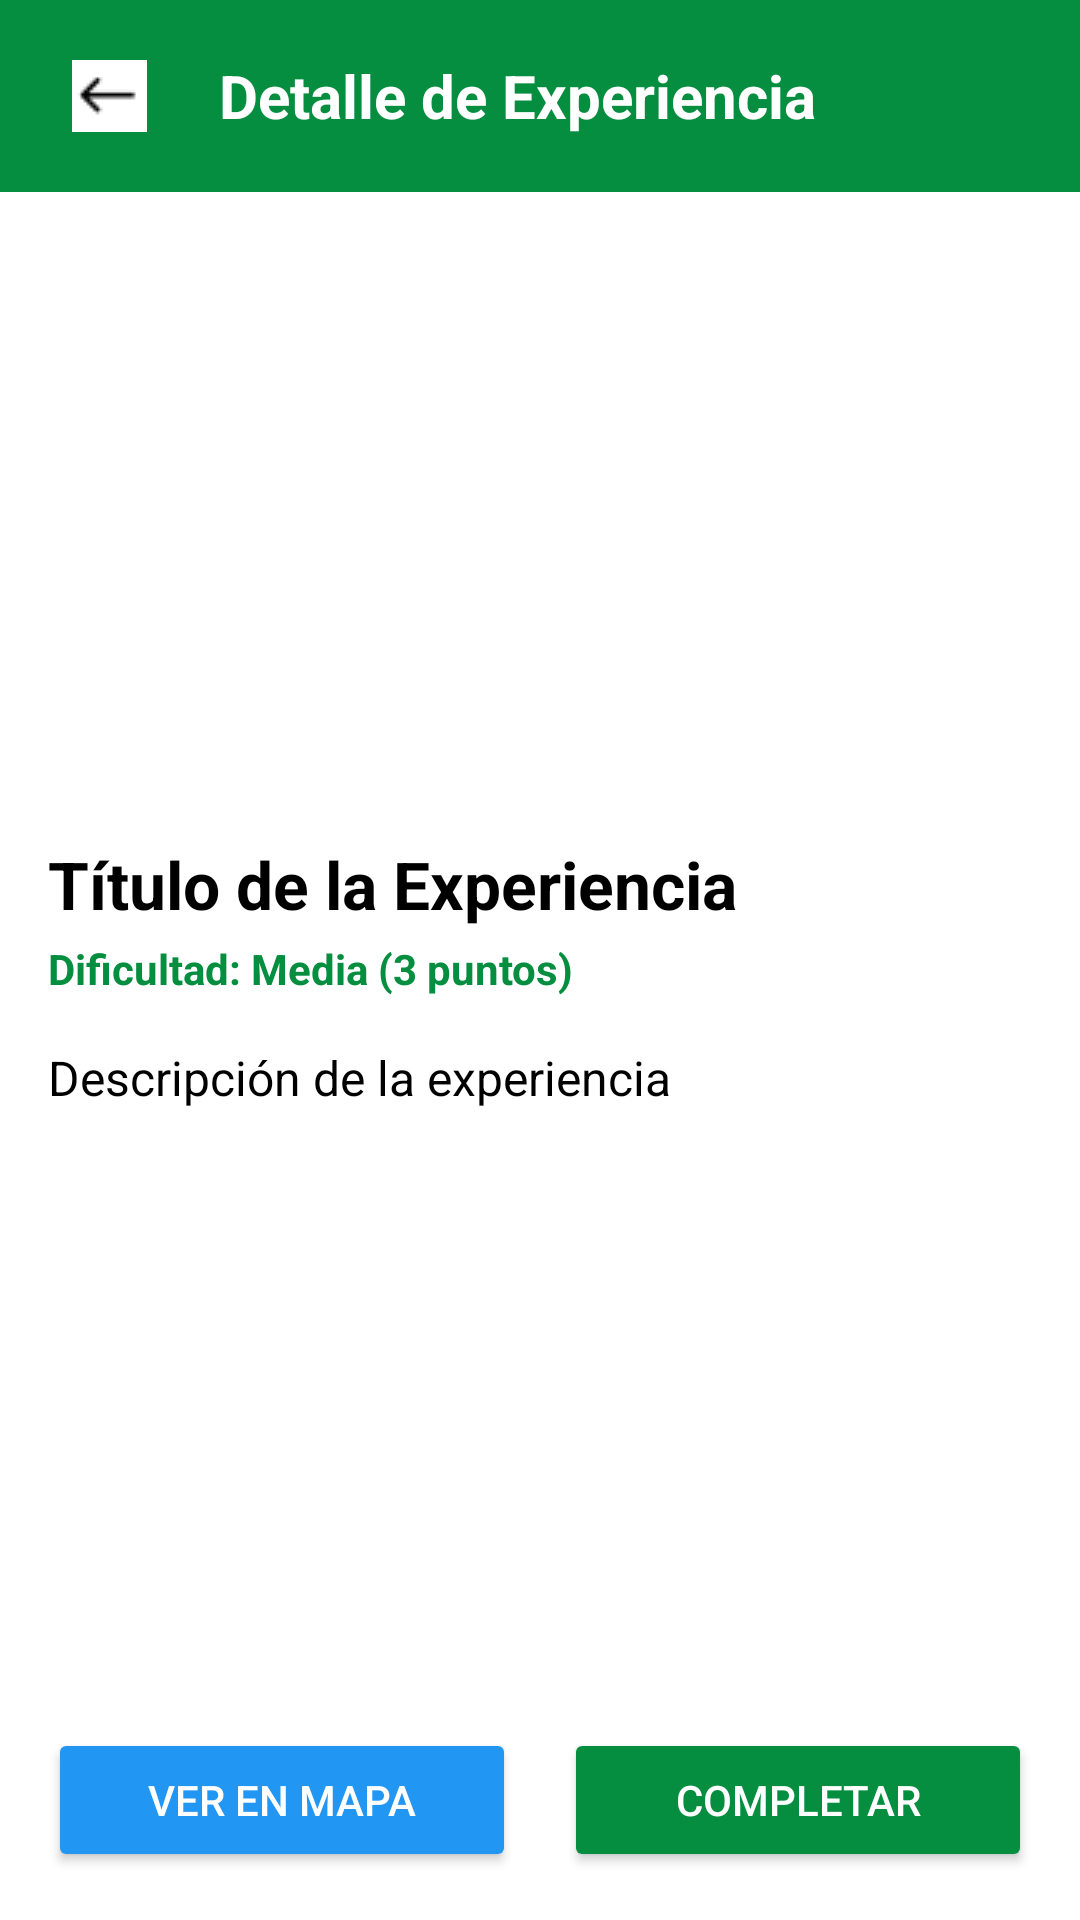

Point at icon controls on the screen. Image size 1080 x 1920, points as (x,y).
flecha: (109,96)
